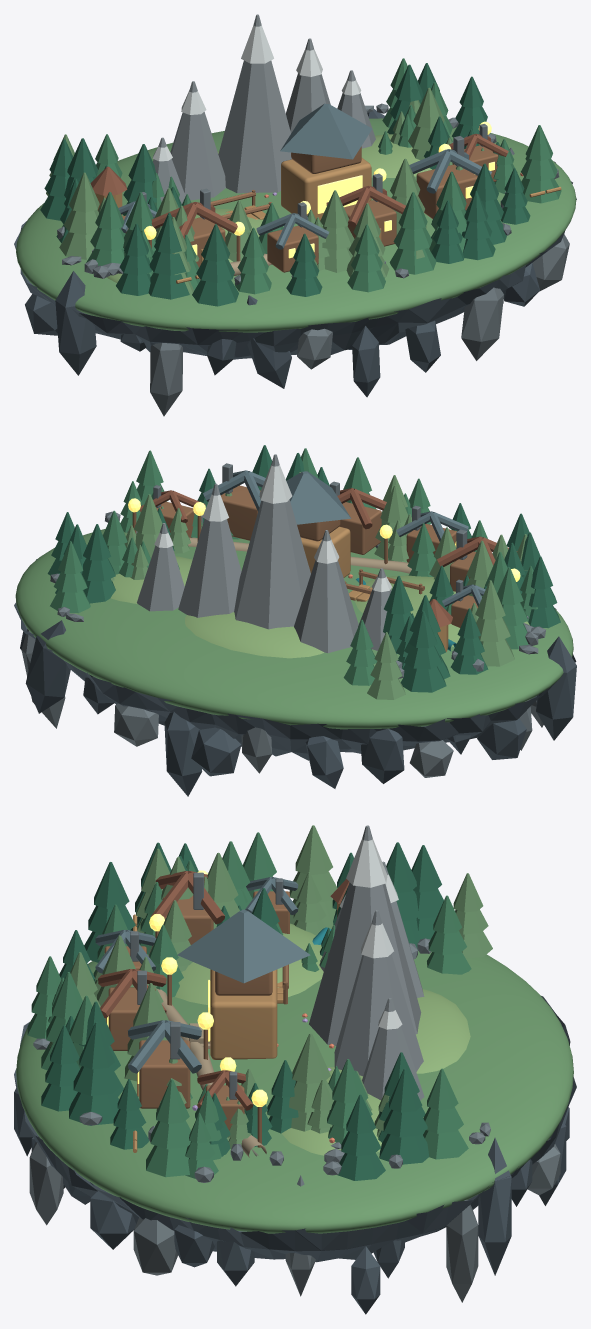
The model's file is career_exploration_island.glb.
3 views of the same model, one above another, from view 1: azimuth 30°, elevation 25°; view 2: azimuth 150°, elevation 25°; view 3: azimuth 270°, elevation 25° (orthographic). The views are drawn at different scales.
Visible parts, largest first — view 1: Green island top, Floating island | jagged underside, Main jagged mountain, Western mountain, Center | pavilion roof, Cliff shard.016, Career Exploration Center | main hall, Cliff shard.024, Cliff shard.018, Eastern mountain, Cliff shard.022, Cliff shard.020 (+55 smaller); view 2: Green island top, Floating island | jagged underside, Main jagged mountain, Eastern mountain, Western mountain, Rolling meadow hill.002, Cliff shard.004, Cliff shard.016, Outer ridge, Center | pavilion roof, Cliff shard.007, Cliff shard.008 (+58 smaller); view 3: Green island top, Floating island | jagged underside, Main jagged mountain, Eastern mountain, Center | pavilion roof, Career Exploration Center | main hall, Rolling meadow hill.002, Cliff shard.004, Rolling meadow hill, Cliff shard.003, Career experience house | timber body, Outer ridge (+66 smaller).
Boxes of the visible parts, x1,y1,x2,y2 form: Green island top: (16,118,576,332); Floating island | jagged underside: (14,161,576,359); Main jagged mountain: (218,14,291,193); Western mountain: (170,81,225,200); Center | pavilion roof: (280,103,372,159); Cliff shard.016: (55,271,96,375); Career Exploration Center | main hall: (281,158,371,220); Cliff shard.024: (461,287,503,360); Cliff shard.018: (150,343,182,416); Eastern mountain: (286,38,330,133); Cliff shard.022: (352,326,380,397); Cliff shard.020: (247,295,291,388); Green island top: (15,525,573,729); Floating island | jagged underside: (14,559,576,760); Main jagged mountain: (234,454,310,629); Eastern mountain: (178,483,241,617); Western mountain: (294,530,358,653); Rolling meadow hill.002: (185,612,324,658); Cliff shard.004: (25,620,70,713); Cliff shard.016: (536,636,576,740); Outer ridge: (137,523,184,611); Center | pavilion roof: (259,471,351,524); Cliff shard.007: (164,712,202,796); Cliff shard.008: (191,727,241,776); Green island top: (16,951,573,1233); Floating island | jagged underside: (14,996,576,1262); Main jagged mountain: (309,825,421,1045); Eastern mountain: (334,910,423,1076); Center | pavilion roof: (177,909,310,983); Career Exploration Center | main hall: (210,969,277,1059); Rolling meadow hill.002: (416,989,470,1073); Cliff shard.004: (478,1137,511,1275); Rolling meadow hill: (175,923,323,1004); Cliff shard.003: (446,1199,478,1302); Career experience house | timber body: (139,1040,190,1108); Outer ridge: (362,998,424,1100).
Size of the model in its own units: 8.06 by 4.49 by 6.06.
